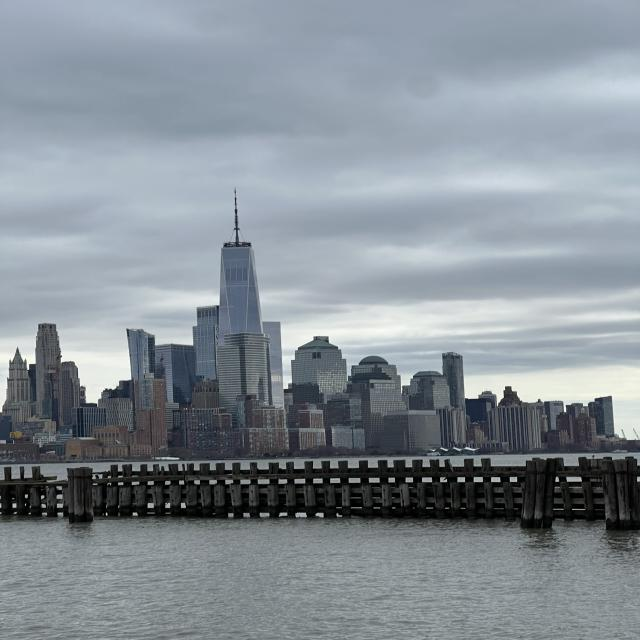WTC: (218, 188, 263, 332)
